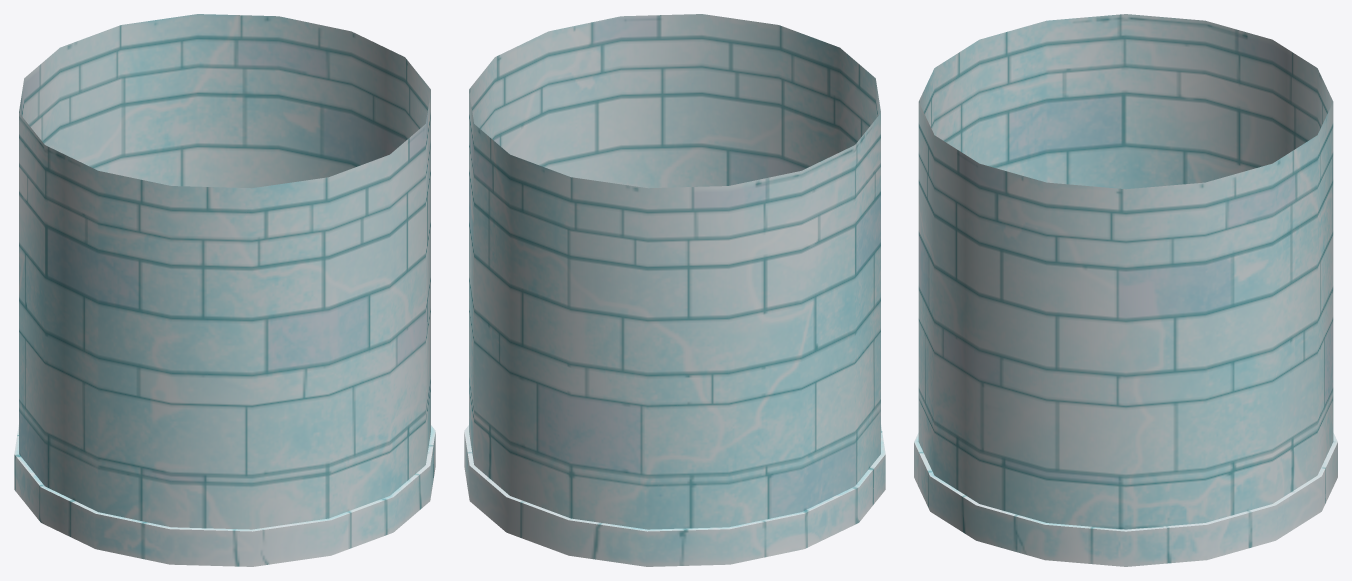
Rendered from sb_obj_outdoor023_IceCastle01_CircleWall00.fbx.
The picture shows the model from 3 angles, left to right: view 1: azimuth 30°, elevation 25°; view 2: azimuth 150°, elevation 25°; view 3: azimuth 270°, elevation 25°; orthographic projection.
Visible parts, largest first — view 1: sb_obj_outdoor023_IceCastle01_CircleWall00; view 2: sb_obj_outdoor023_IceCastle01_CircleWall00; view 3: sb_obj_outdoor023_IceCastle01_CircleWall00.
Part boxes in pixels (x1,y1,x2,y2): sb_obj_outdoor023_IceCastle01_CircleWall00: (14,14,435,566); sb_obj_outdoor023_IceCastle01_CircleWall00: (464,14,885,566); sb_obj_outdoor023_IceCastle01_CircleWall00: (914,14,1337,566).
Size of the model in its own units: 3.07 by 3 by 3.07.
